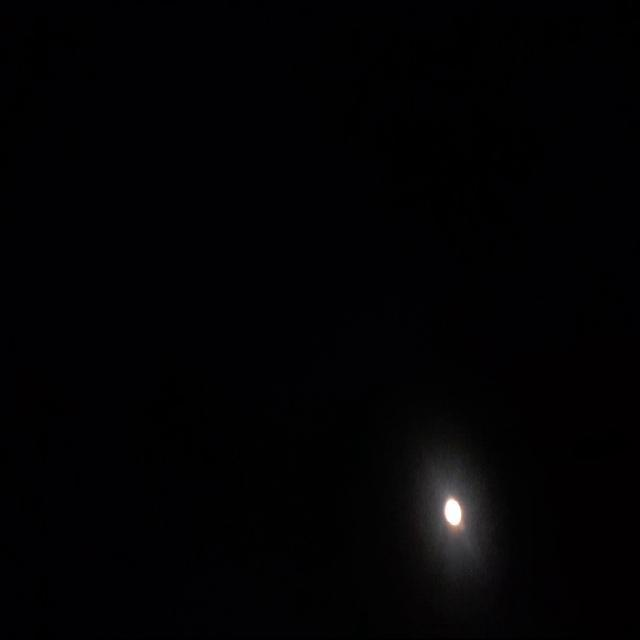moon: (442, 492, 465, 525)
